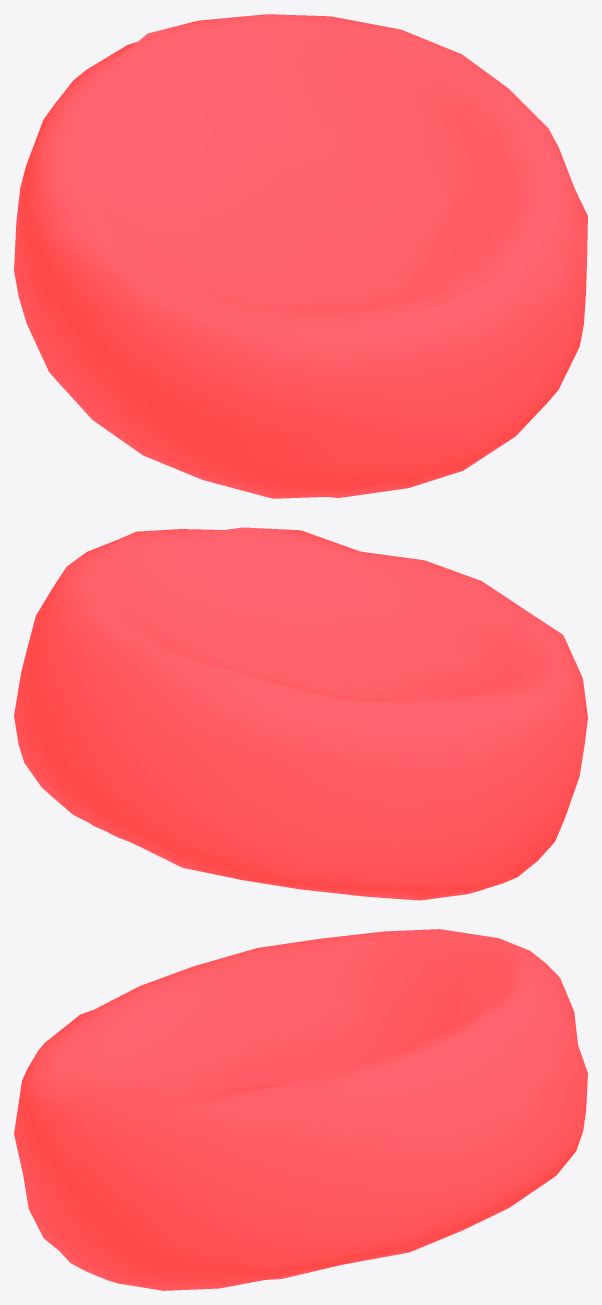
File: red blood cells4.fbx
3 views of the same model, one above another, from view 1: azimuth 30°, elevation 25°; view 2: azimuth 150°, elevation 25°; view 3: azimuth 270°, elevation 25° (orthographic). The views are drawn at different scales.
Parts seen in each view (by area): view 1: Cylinder.003; view 2: Cylinder.003; view 3: Cylinder.003.
Part boxes in pixels (x1,y1,x2,y2): Cylinder.003: (14, 14, 587, 498); Cylinder.003: (14, 527, 587, 900); Cylinder.003: (14, 929, 587, 1290).
Bounding box in the file's own units: 58.53 × 33.55 × 63.01.
